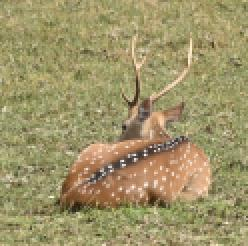Deer: (60, 35, 210, 206)
